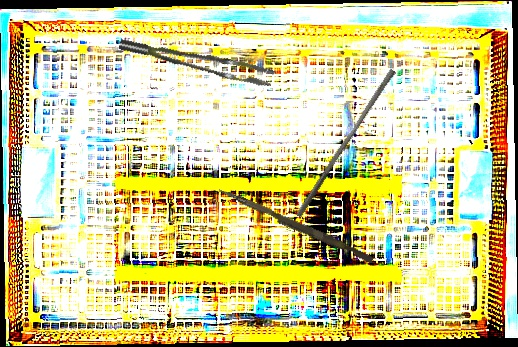Pusher: (295, 65, 397, 222), (215, 187, 376, 264)
Tissue Forceps: (118, 18, 276, 102)
